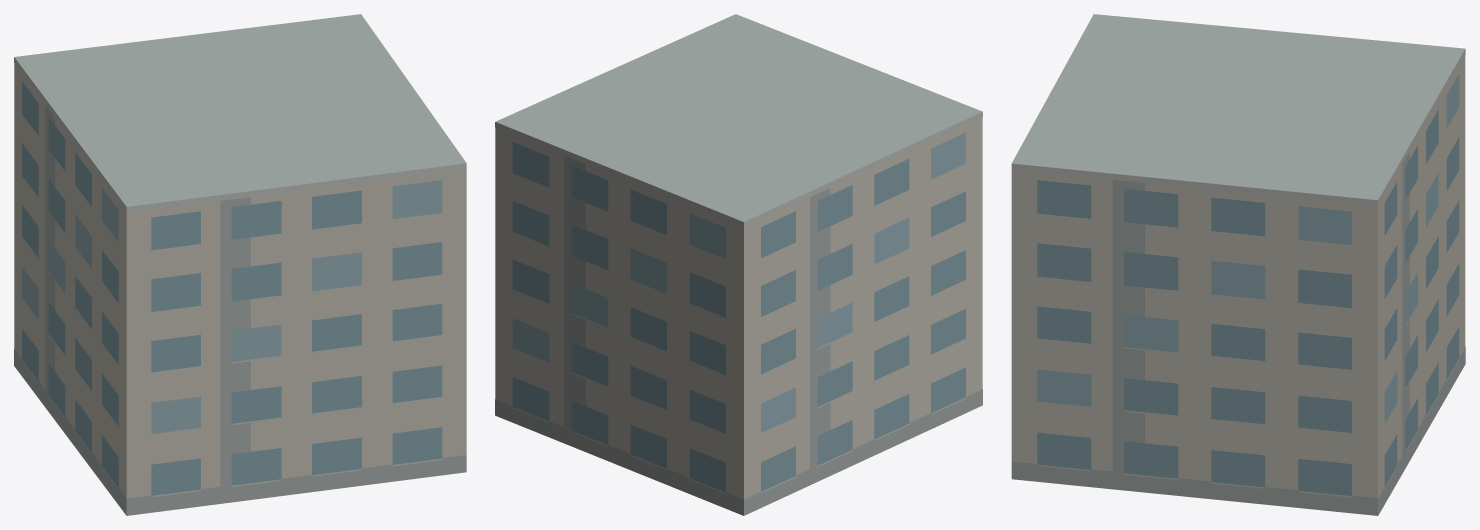
The model's file is survey-upis-32799457.glb.
3 renders of one model, left to right at view 1: azimuth 30°, elevation 25°; view 2: azimuth 150°, elevation 25°; view 3: azimuth 270°, elevation 25°, orthographic. The views are drawn at different scales.
Parts seen in each view (by area): view 1: survey-upis-32799457.tmp; view 2: survey-upis-32799457.tmp; view 3: survey-upis-32799457.tmp.
Boxes of the visible parts, x1,y1,x2,y2 form: survey-upis-32799457.tmp: (14, 14, 466, 515); survey-upis-32799457.tmp: (495, 14, 982, 515); survey-upis-32799457.tmp: (1011, 14, 1465, 515).
Size of the model in its own units: 15.95 by 12.6 by 16.43.
